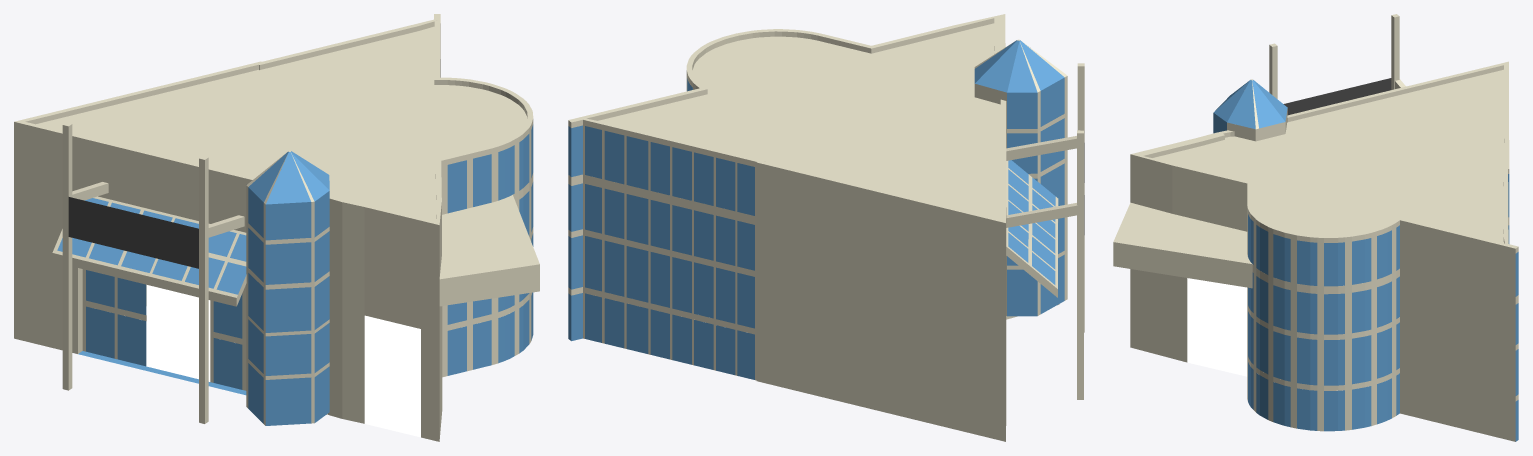
Rendered from plein1_subway.glb.
3 views of the same model, side by side, from view 1: azimuth 30°, elevation 25°; view 2: azimuth 150°, elevation 25°; view 3: azimuth 270°, elevation 25° (orthographic). The views are drawn at different scales.
Parts seen in each view (by area): view 1: Cube.010; view 2: Cube.010; view 3: Cube.010.
Boxes of the visible parts, x1,y1,x2,y2 form: Cube.010: [14, 14, 539, 441]; Cube.010: [568, 14, 1084, 441]; Cube.010: [1113, 14, 1518, 441].
Size of the model in its own units: 96.98 by 55.27 by 85.94.
